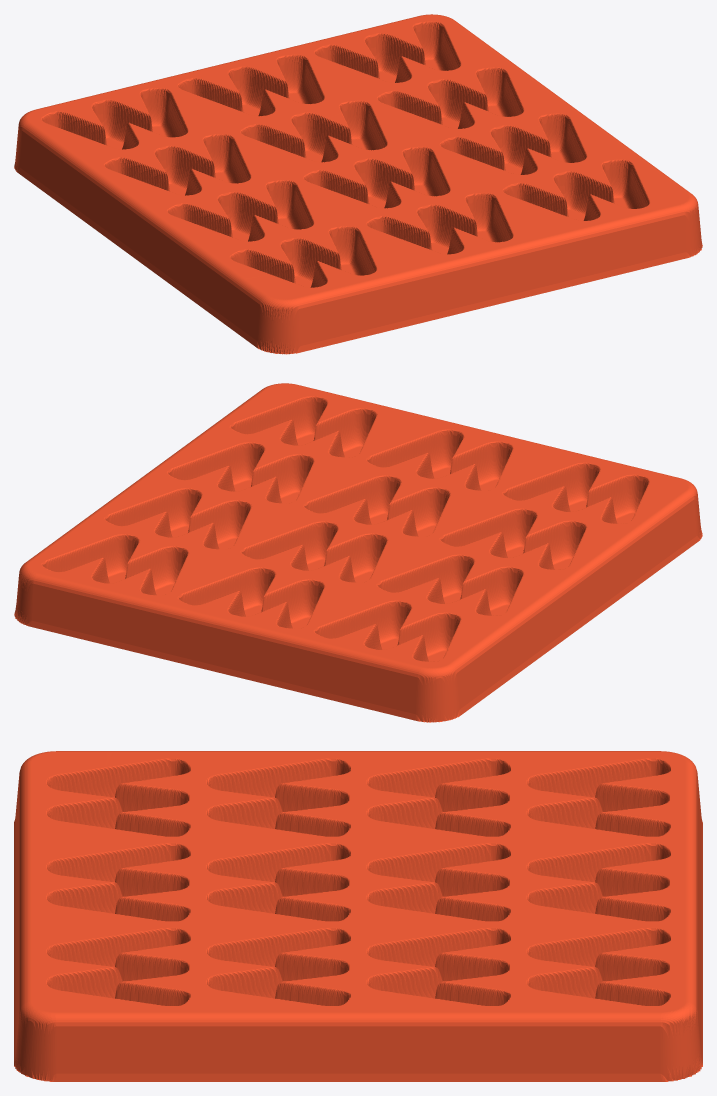
The model's file is mold.glb.
3 views of the same model, one above another, from view 1: azimuth 30°, elevation 25°; view 2: azimuth 150°, elevation 25°; view 3: azimuth 270°, elevation 25° (orthographic). The views are drawn at different scales.
Parts seen in each view (by area): view 1: geometry_0; view 2: geometry_0; view 3: geometry_0.
Part boxes in pixels (x1,y1,x2,y2): geometry_0: (14,14,702,354); geometry_0: (14,383,702,722); geometry_0: (14,751,702,1081).
Bounding box in the file's own units: 0.1374 × 0.0145 × 0.1456.
